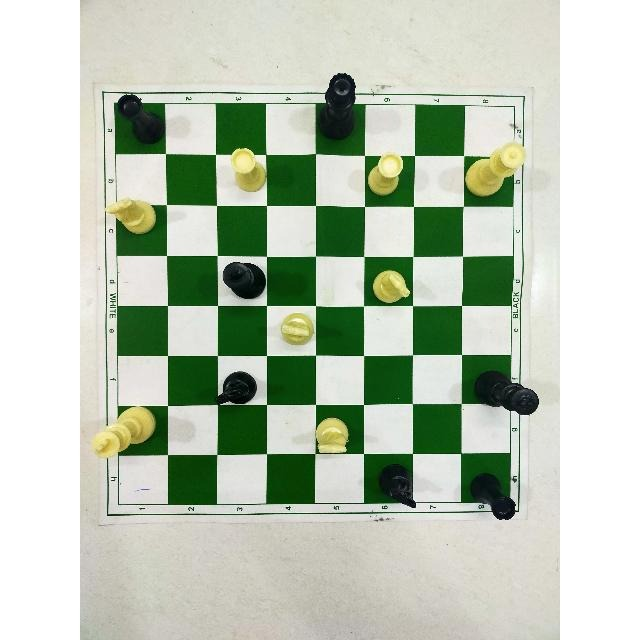black-king: (465, 362, 545, 428), (216, 256, 273, 309)
black-knight: (366, 455, 427, 516), (205, 365, 258, 417)
black-queen: (315, 69, 365, 151)
black-rook: (458, 461, 524, 529), (106, 86, 169, 154)
white-king: (86, 398, 162, 470)
white-knight: (101, 190, 163, 244), (364, 260, 417, 312), (309, 409, 353, 461), (271, 309, 319, 353)
white-queen: (461, 133, 529, 209)
white-rook: (362, 146, 409, 206), (223, 143, 268, 197)
